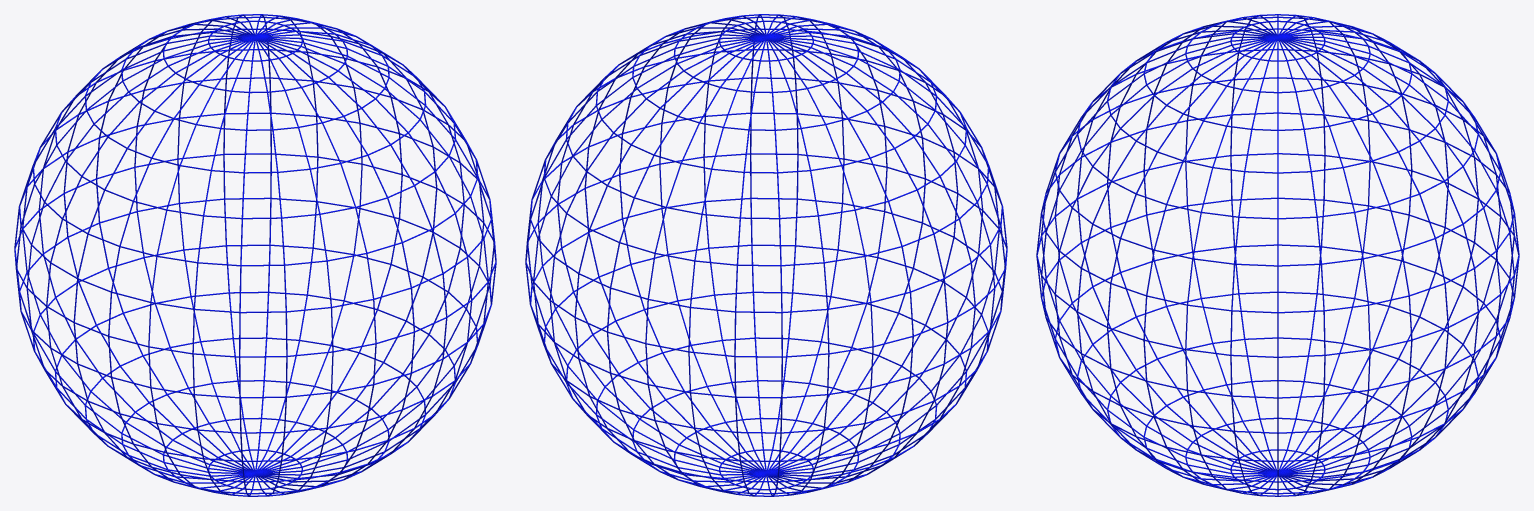
3 renders of one model, left to right at view 1: azimuth 30°, elevation 25°; view 2: azimuth 150°, elevation 25°; view 3: azimuth 270°, elevation 25°, orthographic.
Parts seen in each view (by area): view 1: Grid; view 2: Grid; view 3: Grid.
Boxes of the visible parts, box(x1,y1,x2,y2) form: Grid: box(14, 14, 496, 496); Grid: box(525, 14, 1007, 496); Grid: box(1036, 14, 1519, 496).
Size of the model in its own units: 2.08 by 2.08 by 2.08.
